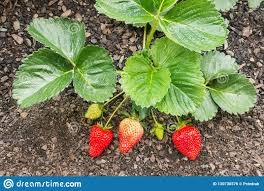ripe: (171, 127, 204, 162), (84, 124, 113, 161)
unripe: (118, 116, 144, 152), (82, 101, 104, 120), (152, 123, 165, 142)
